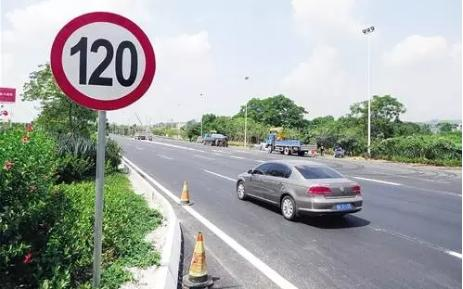Speed_limit_120km: (49, 10, 157, 111)
car: (231, 154, 366, 222)
